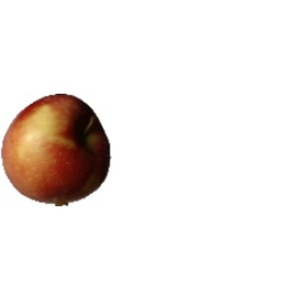maçã braeburn: (2, 91, 115, 200)
